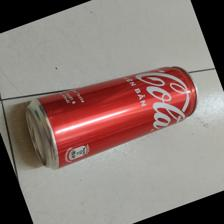Coca: (25, 65, 199, 172)
